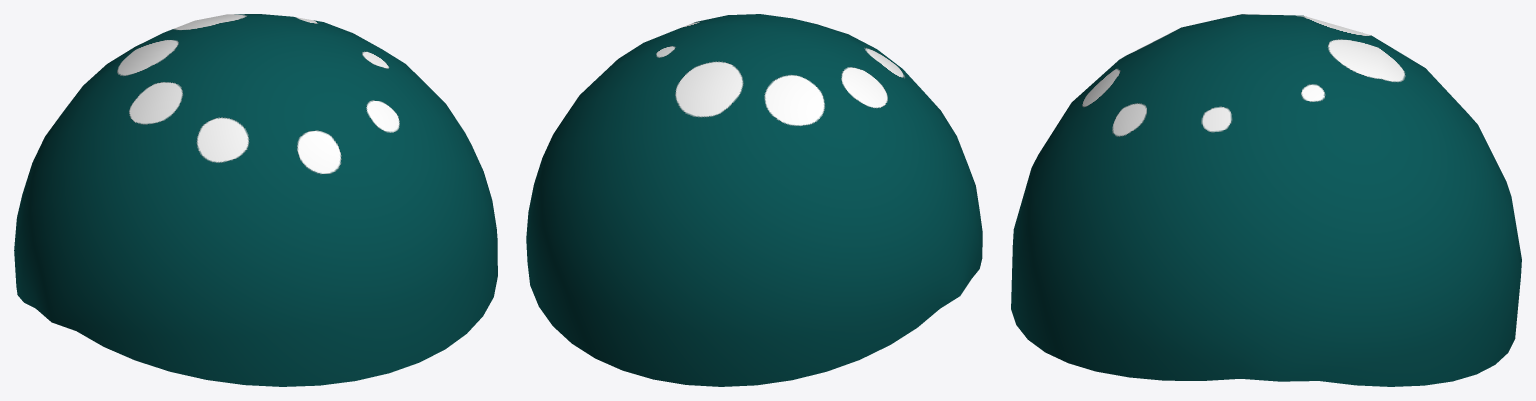
Rendered from Settings_Button_Load.fbx.
3 renders of one model, left to right at view 1: azimuth 30°, elevation 25°; view 2: azimuth 150°, elevation 25°; view 3: azimuth 270°, elevation 25°, orthographic. The views are drawn at different scales.
Parts seen in each view (by area): view 1: pSphere52; view 2: pSphere52; view 3: pSphere52.
Boxes of the visible parts, left/top/right/bottom form: pSphere52: left=14, top=14, right=497, bottom=386; pSphere52: left=526, top=14, right=982, bottom=386; pSphere52: left=1011, top=14, right=1521, bottom=386.
Size of the model in its own units: 5.57 by 3.49 by 5.55.
1 material, 1 textured.
